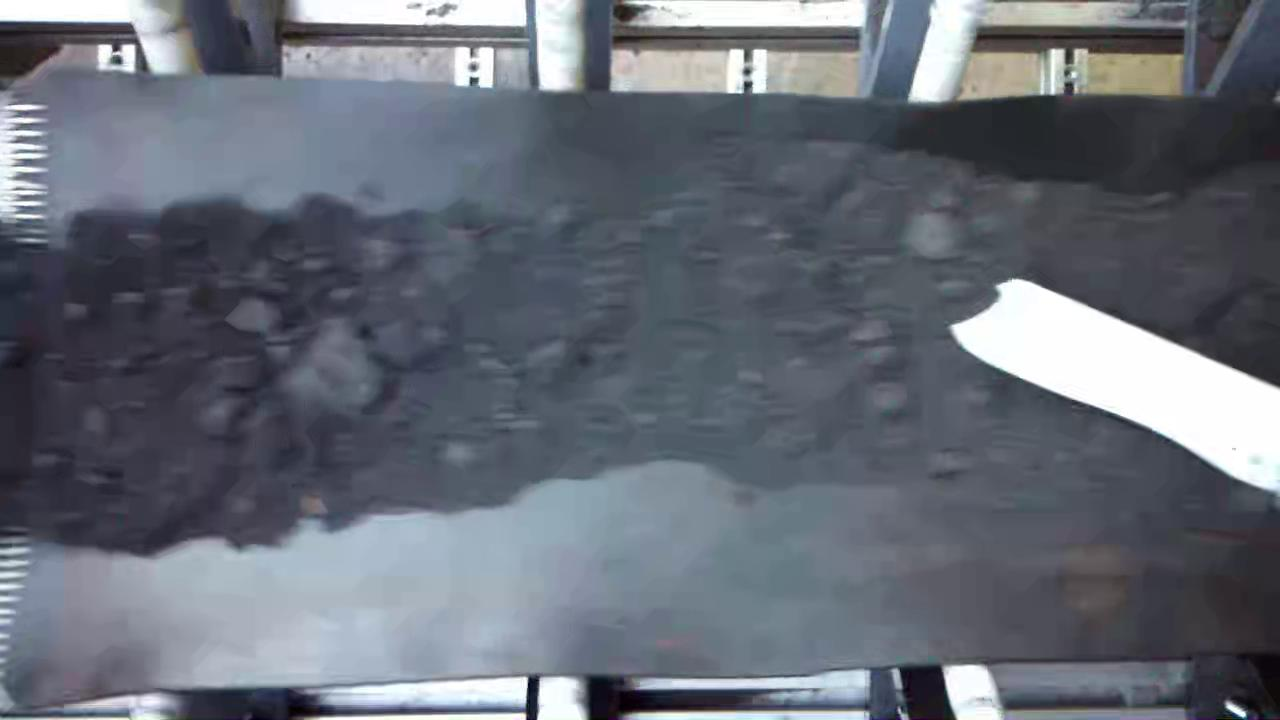conveyor: (7, 103, 1278, 642)
